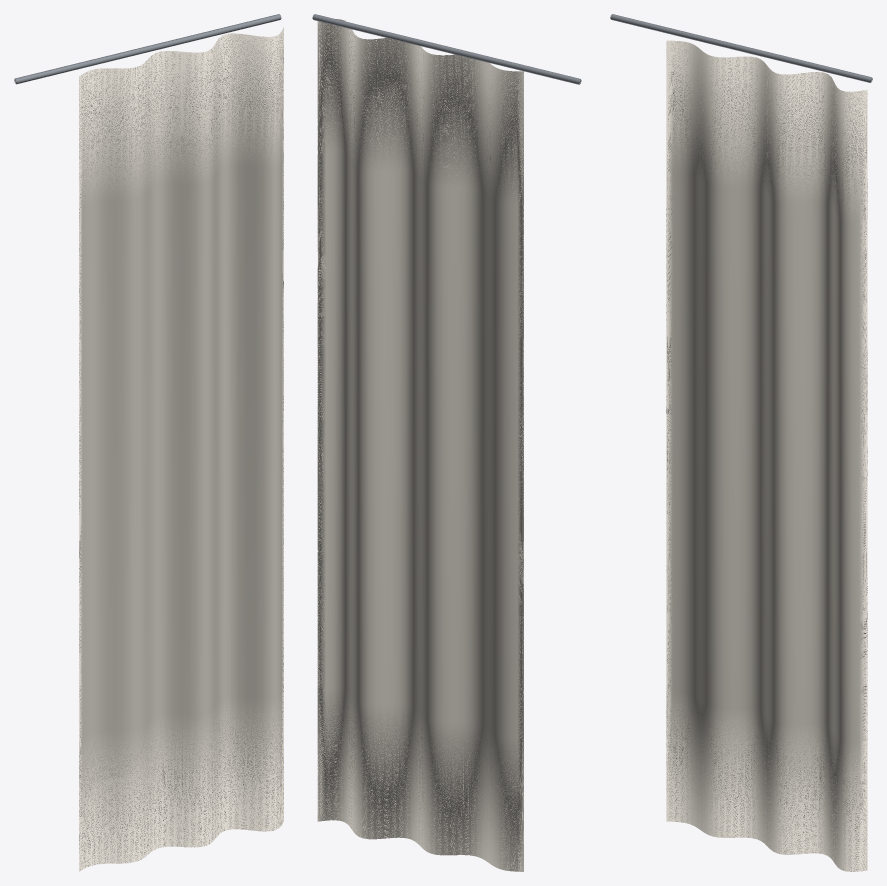
The model's file is bedroom_curtain.fbx.
The picture shows the model from 3 angles, left to right: view 1: azimuth 30°, elevation 25°; view 2: azimuth 150°, elevation 25°; view 3: azimuth 330°, elevation 25°; orthographic projection. The views are drawn at different scales.
Parts seen in each view (by area): view 1: bedroom_curtain; view 2: bedroom_curtain; view 3: bedroom_curtain.
Boxes of the visible parts, <box> form: bedroom_curtain: <box>14,14,283,871</box>; bedroom_curtain: <box>312,14,581,871</box>; bedroom_curtain: <box>610,14,872,871</box>.
Bounding box in the file's own units: 0.8 × 0.0757 × 2.33.
